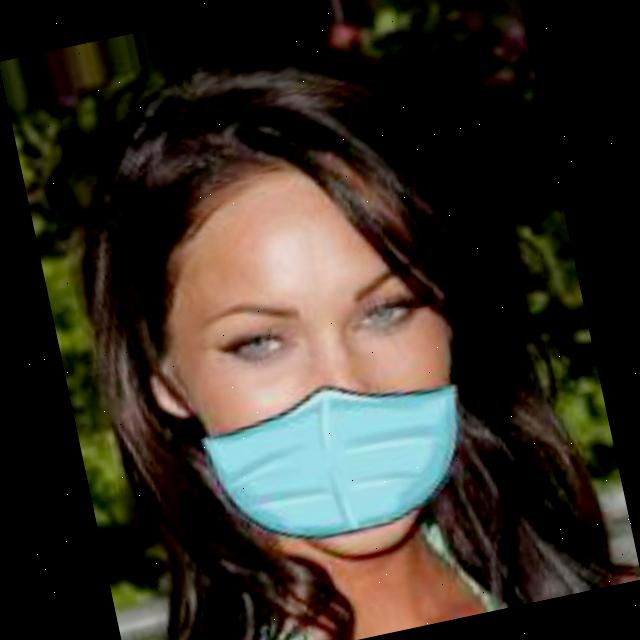suspicion: (113, 105, 510, 568)
